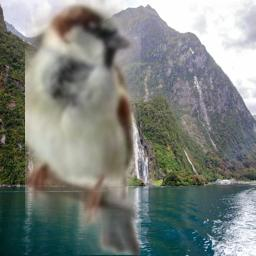Sparrow: (25, 0, 141, 255)
